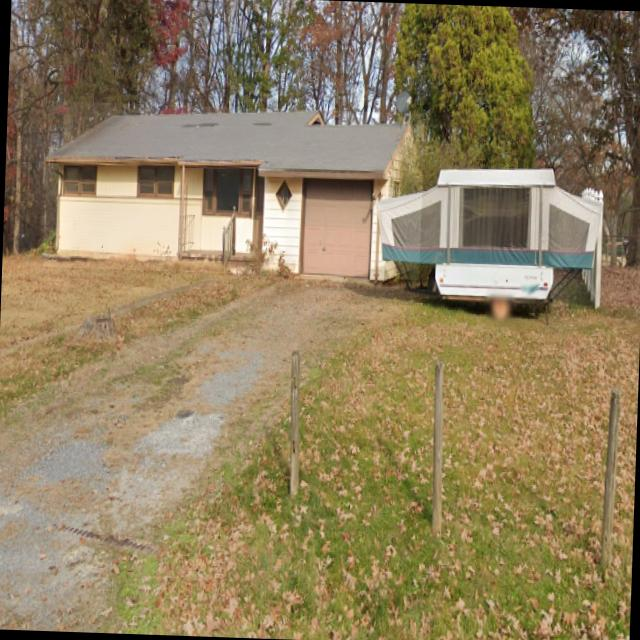House: (42, 101, 424, 280)
